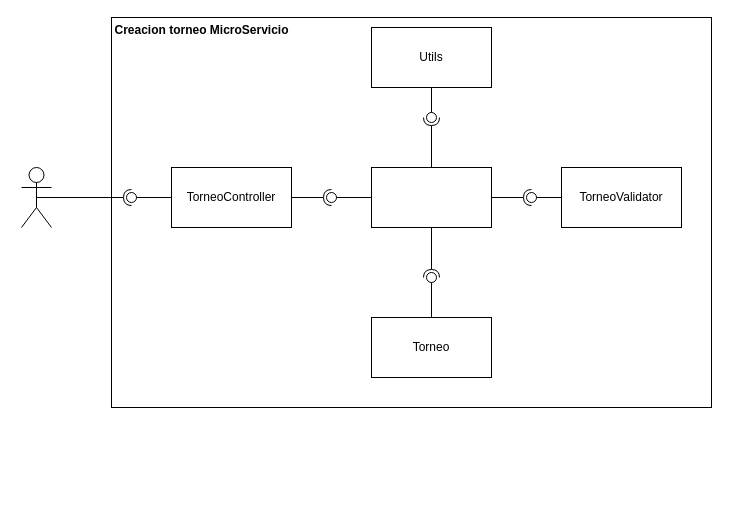
Some shapes in this 729 by 505 pixel diagram are drawn without their labels. The shapes that lost their labels are listed below. From the top down, each one's centre as x and y in pixels, then its label:
point 36,197: HTTPS client
point 431,197: TorneoService
